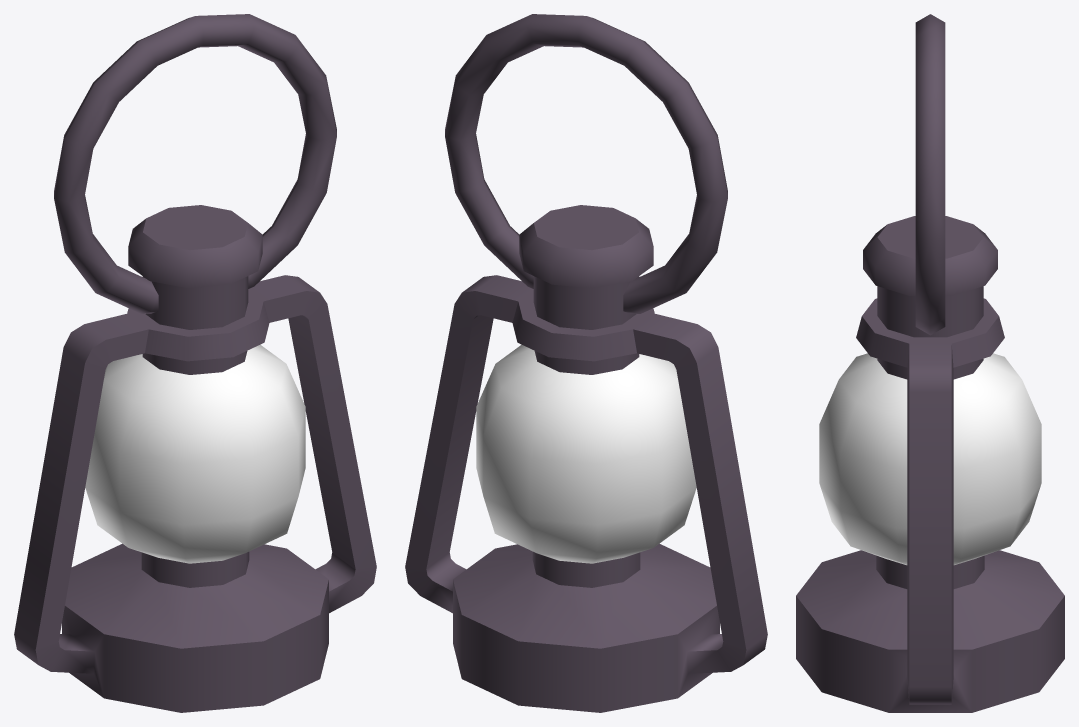
Rendered from Lantern.fbx.
The picture shows the model from 3 angles, left to right: view 1: azimuth 30°, elevation 25°; view 2: azimuth 150°, elevation 25°; view 3: azimuth 270°, elevation 25°; orthographic projection.
Visible parts, largest first — view 1: Cylinder, Circle; view 2: Cylinder, Circle; view 3: Cylinder, Circle.
Part boxes in pixels (x1,y1,x2,y2): Cylinder: (14,205,376,712); Circle: (54,14,336,313); Cylinder: (405,205,767,712); Circle: (445,14,727,313); Cylinder: (796,216,1064,712); Circle: (915,14,945,335).
Bounding box in the file's own units: 29.47 × 52.8 × 20.42.
